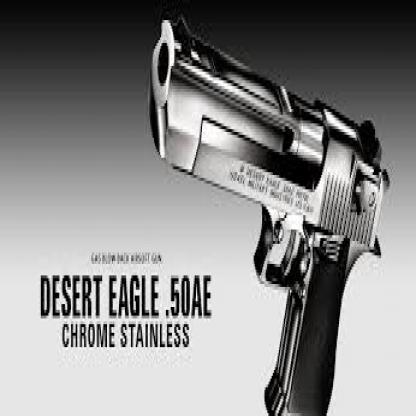Pistol: (129, 9, 392, 405)
